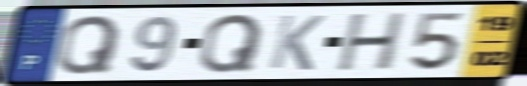5: (408, 11, 466, 72)
9: (128, 14, 178, 74)
H: (333, 10, 410, 74)
K: (266, 13, 328, 73)
Q: (53, 13, 124, 77), (196, 12, 266, 75)
